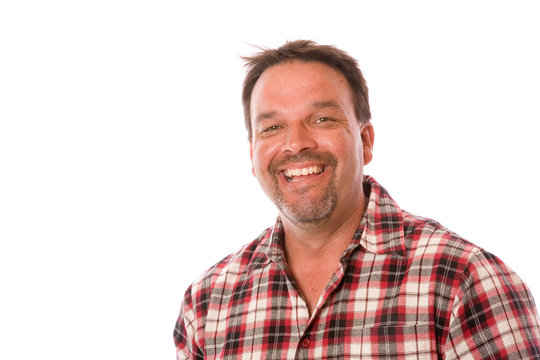NoMask: (255, 97, 350, 221)
